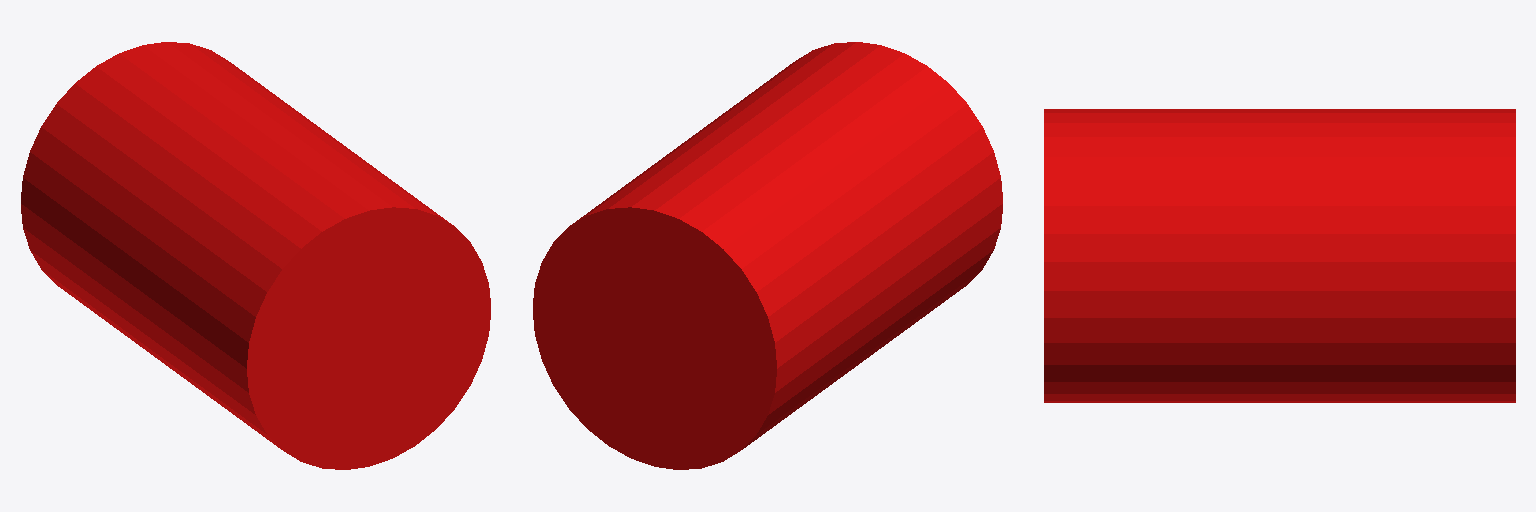
robot.urdf — cylinder_simple:
<?xml version="1.0" ?>
<robot name="cylinder_simple">
  <link name="base_link">
    <inertial>
      <origin xyz="0 0 0" rpy="0 0 0"/>
      <!-- 近似圆柱质量 0.2kg，密度不重要，主要是让仿真稳定 -->
      <mass value="0.2"/>
      <inertia ixx="0.0003" ixy="0" ixz="0" iyy="0.0003" iyz="0" izz="0.0001"/>
    </inertial>
    <visual>
      <origin xyz="0 0 0" rpy="1.57079632679 0 0"/>
      <geometry>
        <cylinder radius="0.025" length="0.08"/>
      </geometry>
      <material name="red"><color rgba="0.9 0.1 0.1 1"/></material>
    </visual>
    <collision>
      <origin xyz="0 0 0" rpy="1.57079632679 0 0"/>
      <geometry>
        <cylinder radius="0.025" length="0.08"/>
      </geometry>
    </collision>
  </link>
</robot>

--- Facts derived from the render (not from the file) ---
3 views of the same robot in one strip: view 1: azimuth 30°, elevation 25°; view 2: azimuth 150°, elevation 25°; view 3: azimuth 270°, elevation 25° (orthographic).
Robot: cylinder_simple — 1 links, 0 joints (none); root link base_link; default pose: all joints at 0.
Links seen in each view (by area): view 1: base_link; view 2: base_link; view 3: base_link.
Link boxes in pixels (<box>): base_link: <box>21,42,490,469</box>; base_link: <box>533,42,1002,469</box>; base_link: <box>1044,109,1515,402</box>.
Bounding box of the posed robot: 0.05 × 0.08 × 0.05 m (x, y, z).
Geometry: primitives only (box / cylinder / sphere), no mesh files.